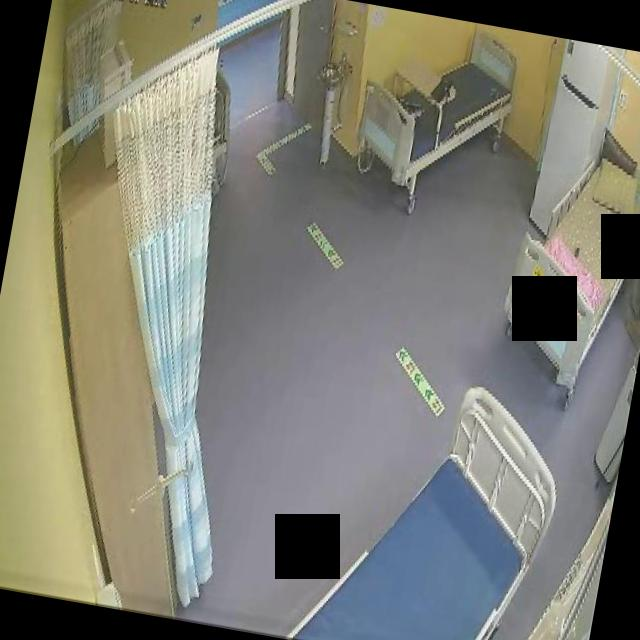bed: (290, 359, 576, 640), (497, 136, 640, 379), (349, 13, 521, 199)
